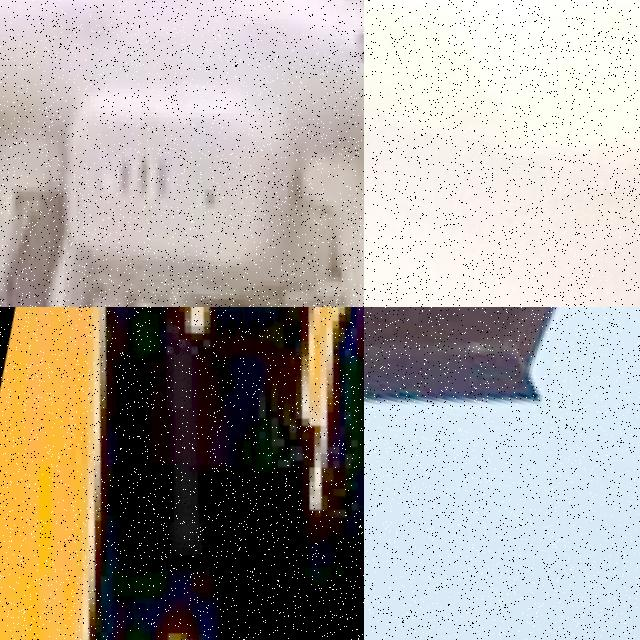drone: (0, 307, 364, 640), (0, 0, 364, 307)
